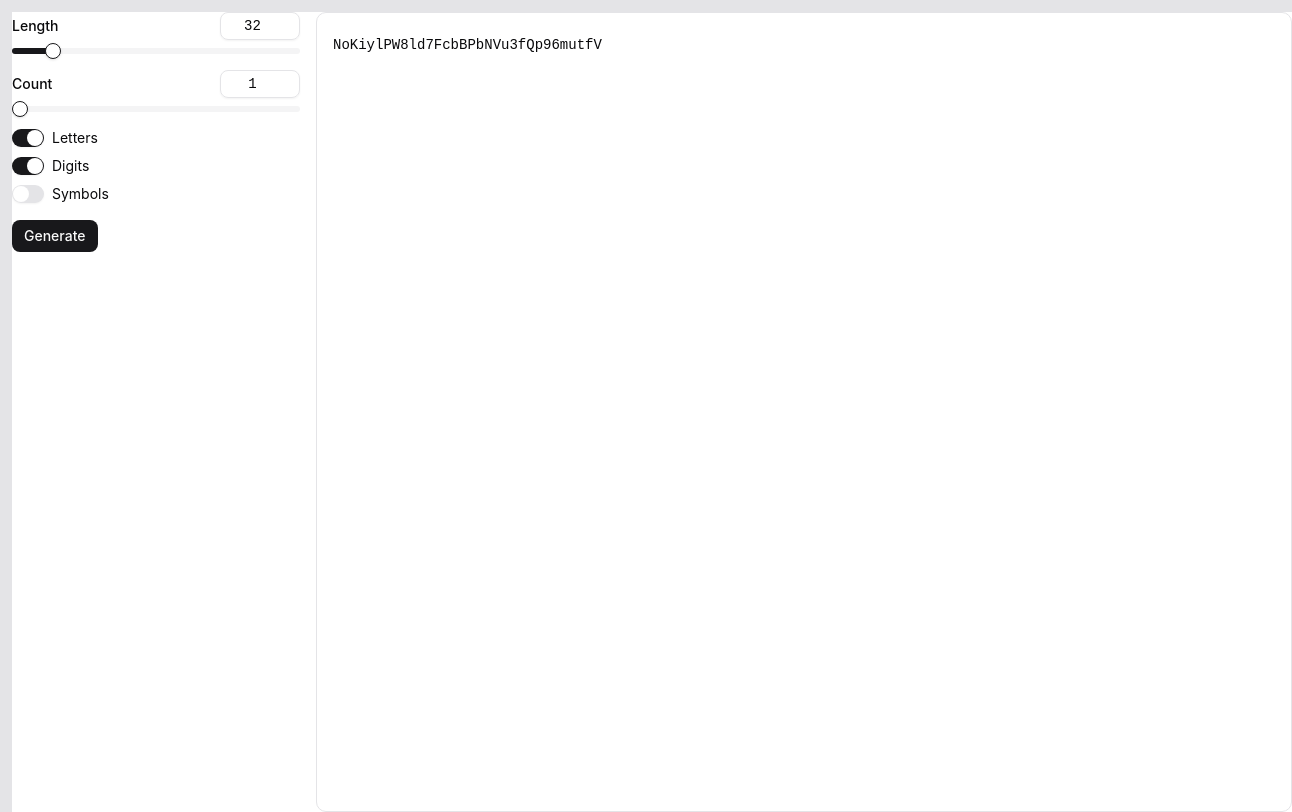
Scenario: changing count to 3 shows multiple strings with bulk copy
Replace the text in the number field in the row of "Count" with "3": (260, 84) [220,70,300,98]
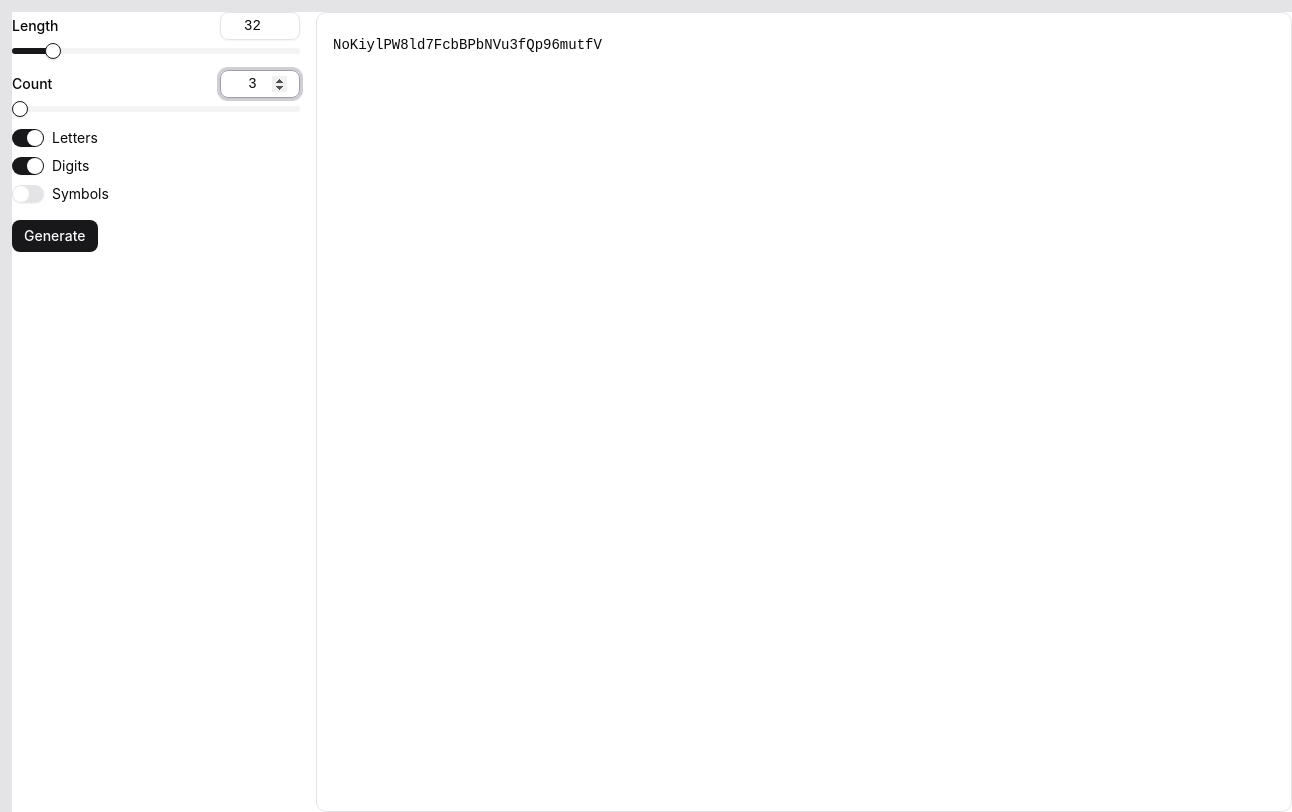
Press Enter in the number field in the row of "Count", box [220,70,300,98]
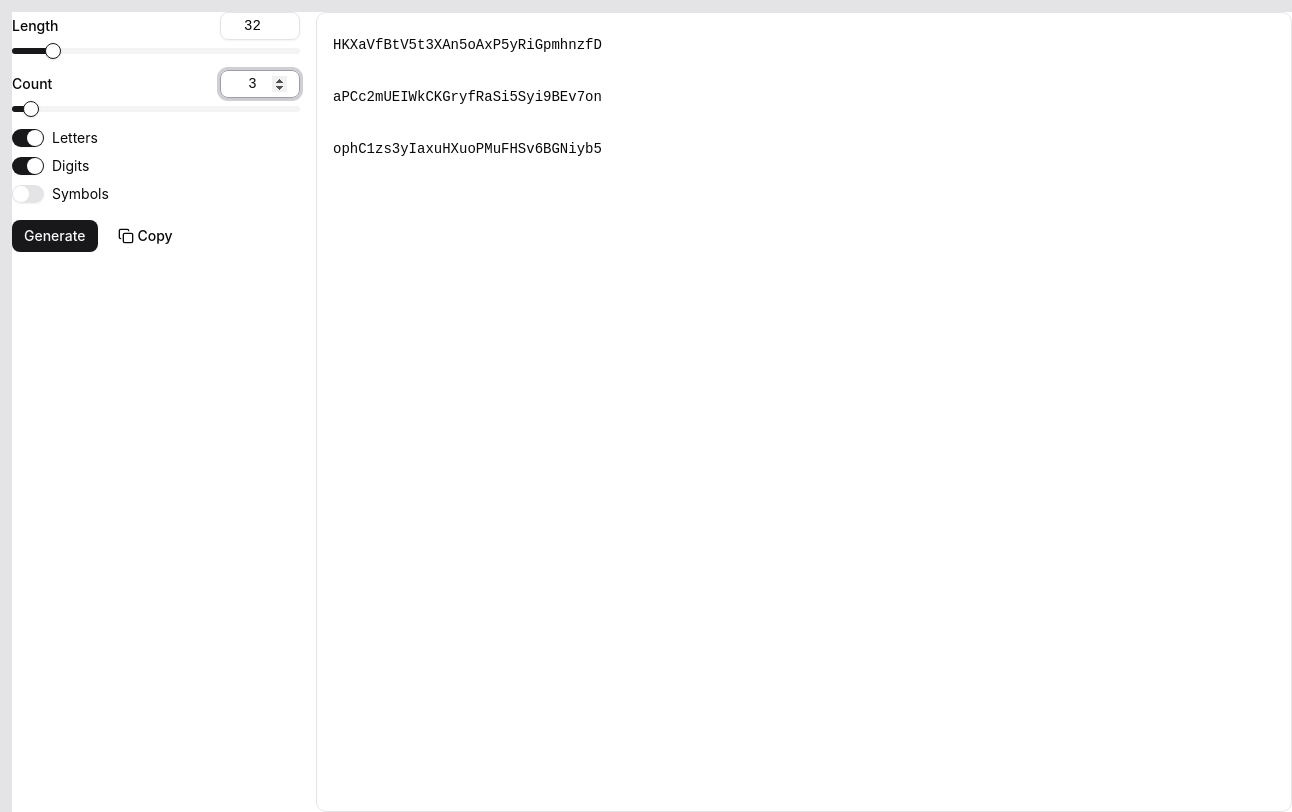
Check: the text "Copy" is shown, box [138,226,173,246]
